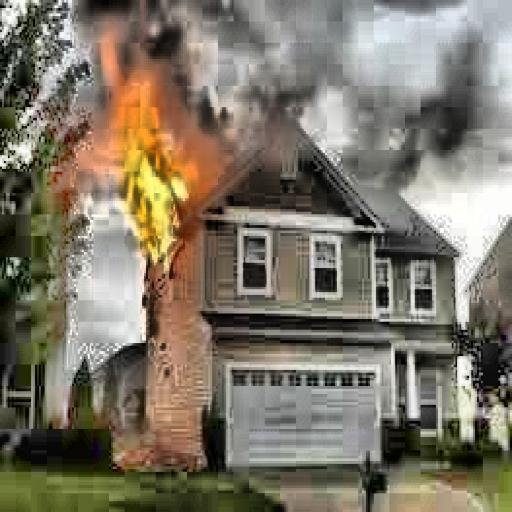fire: (86, 27, 238, 265)
